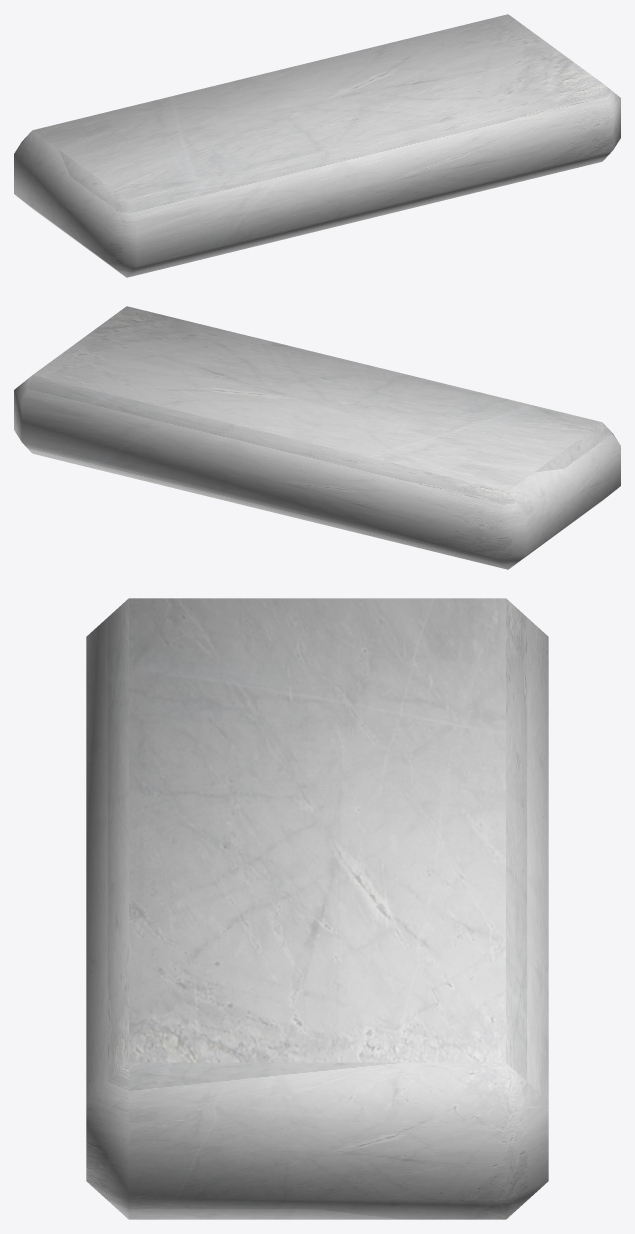
Rendered from static.glb.
3 renders of one model, top to bottom at view 1: azimuth 30°, elevation 25°; view 2: azimuth 150°, elevation 25°; view 3: azimuth 270°, elevation 25°, orthographic. The views are drawn at different scales.
Visible parts, largest first — view 1: Cube; view 2: Cube; view 3: Cube.
Boxes of the visible parts, bbox=[...] form: Cube: bbox=[14, 14, 620, 277]; Cube: bbox=[14, 306, 620, 569]; Cube: bbox=[86, 598, 548, 1219].
Bounding box in the file's own units: 1.03 × 0.1507 × 0.4022.
1 material, 1 textured.
